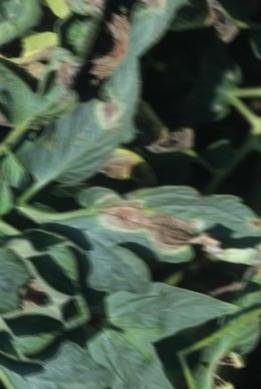Tomato leaf late blight: (2, 119, 261, 336), (21, 34, 160, 216)
